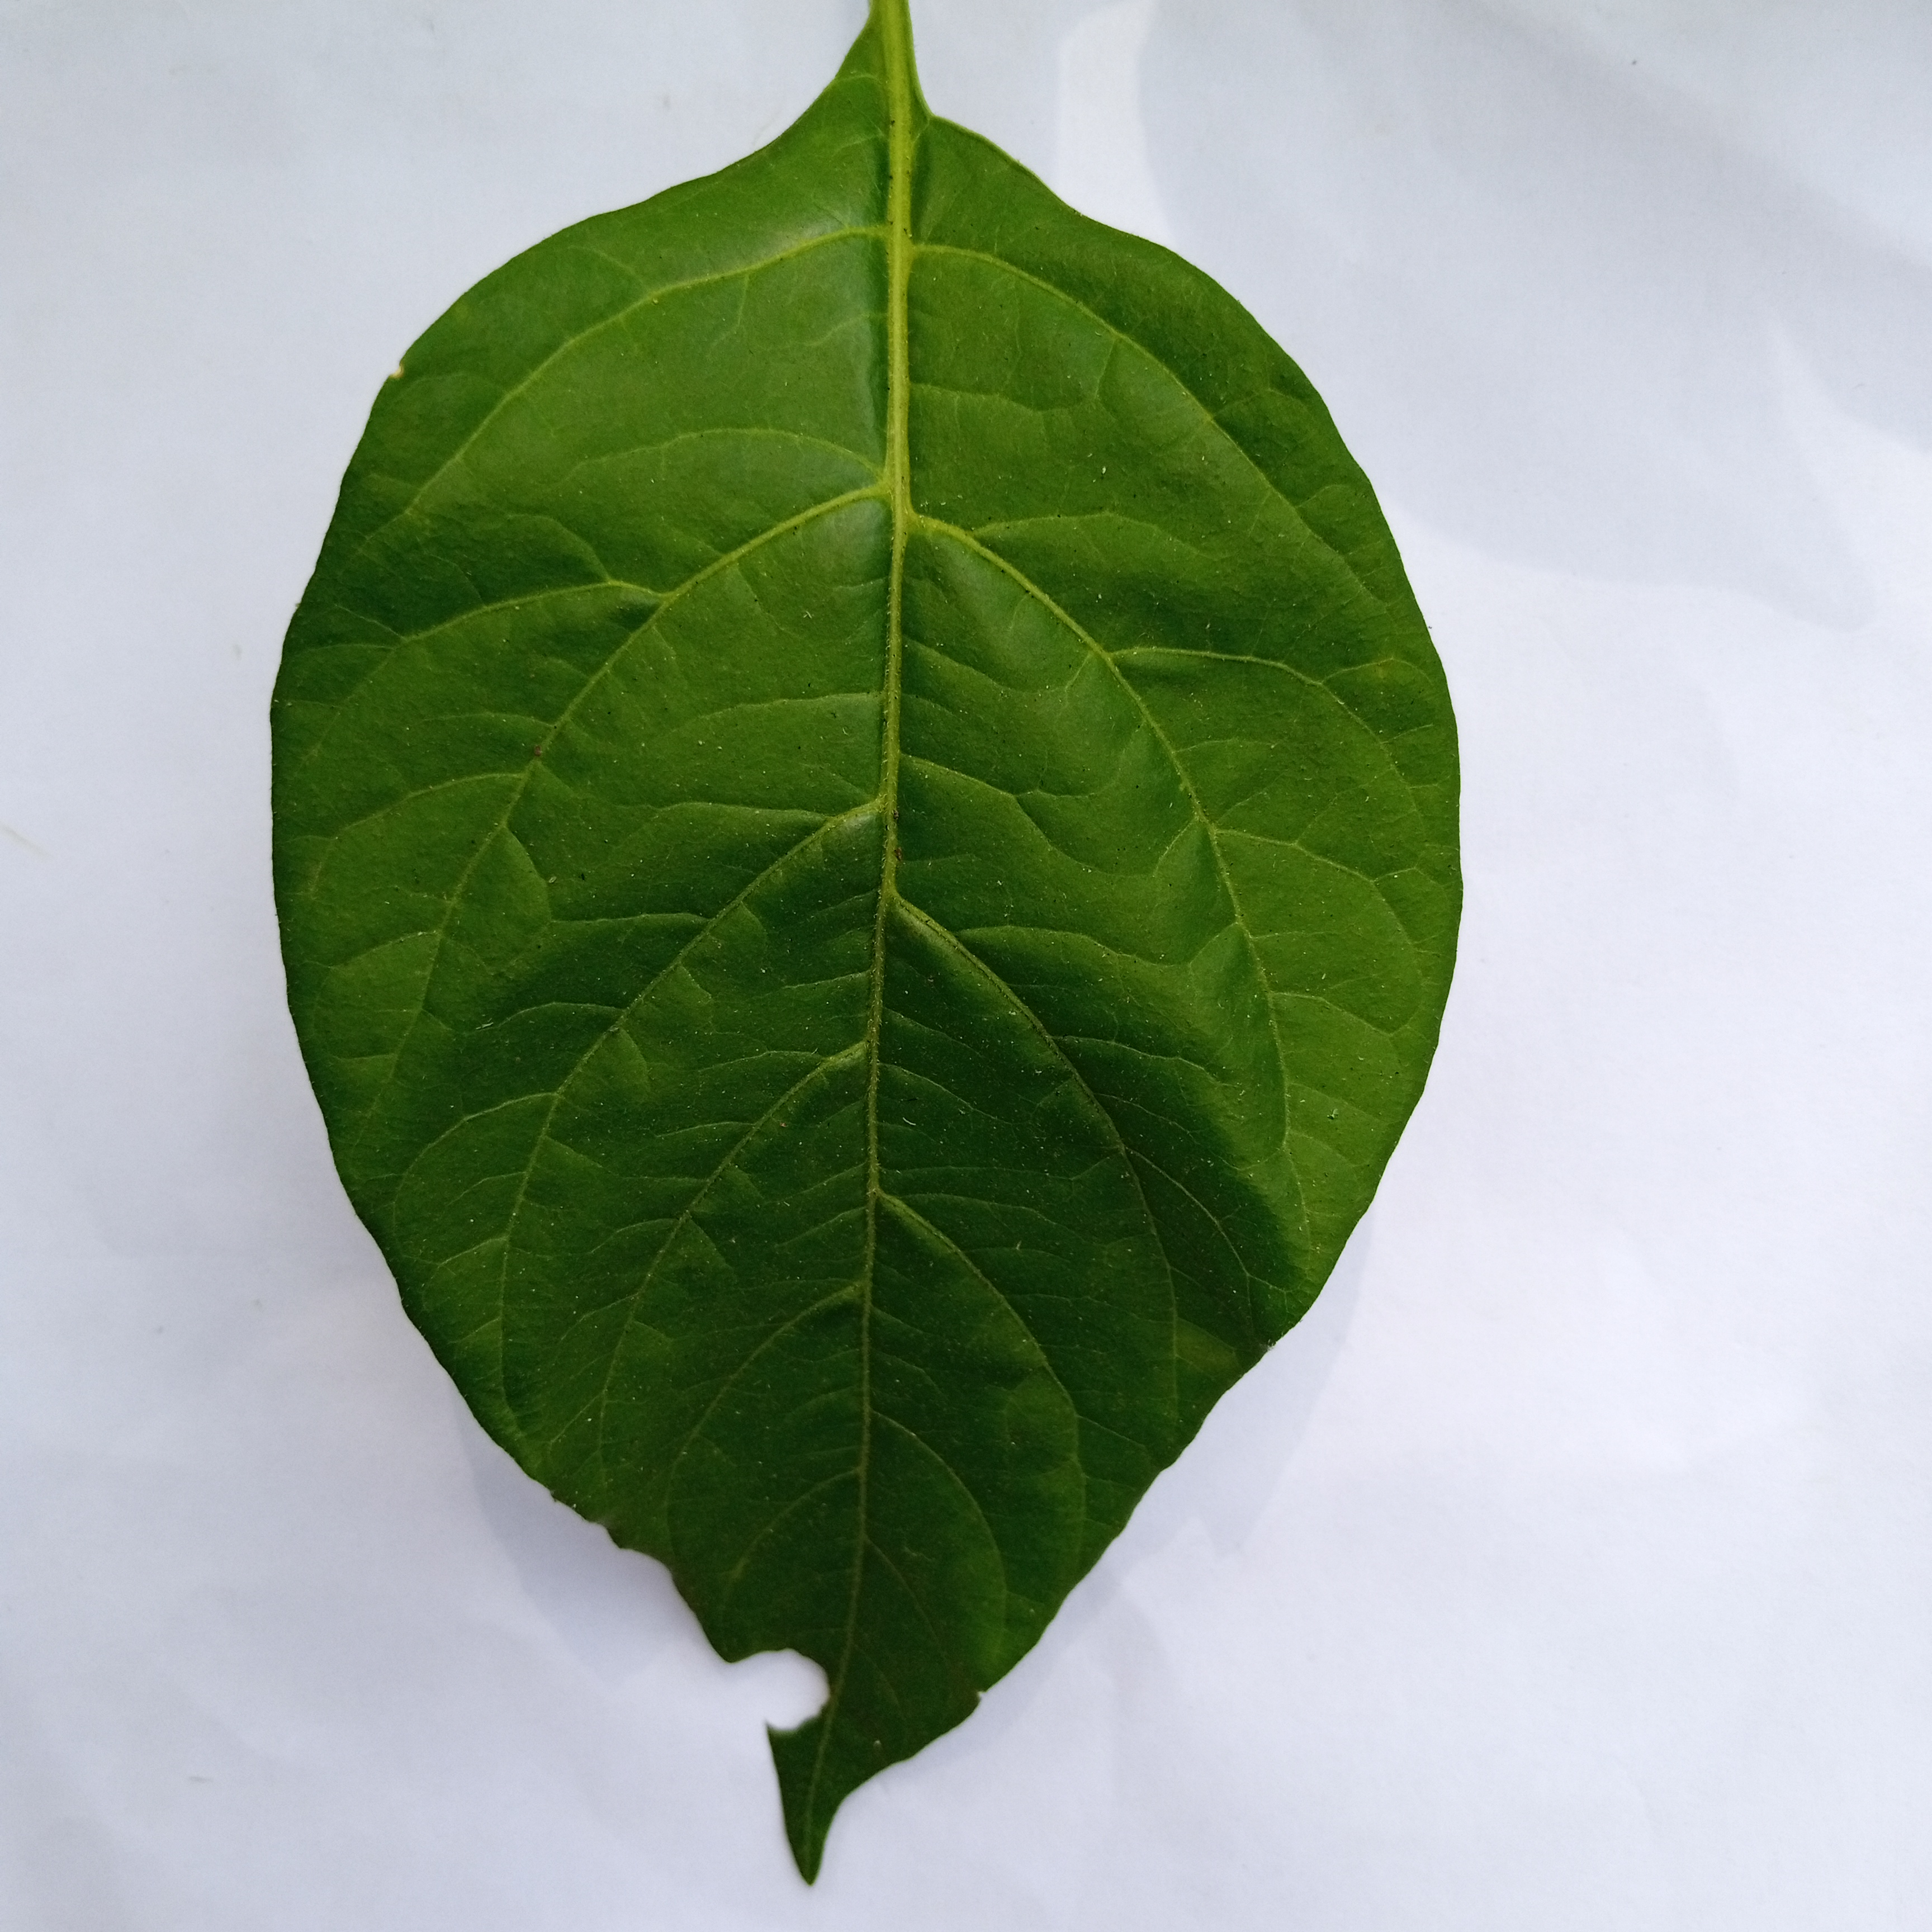Leaf: (140, 58, 1583, 1911)
